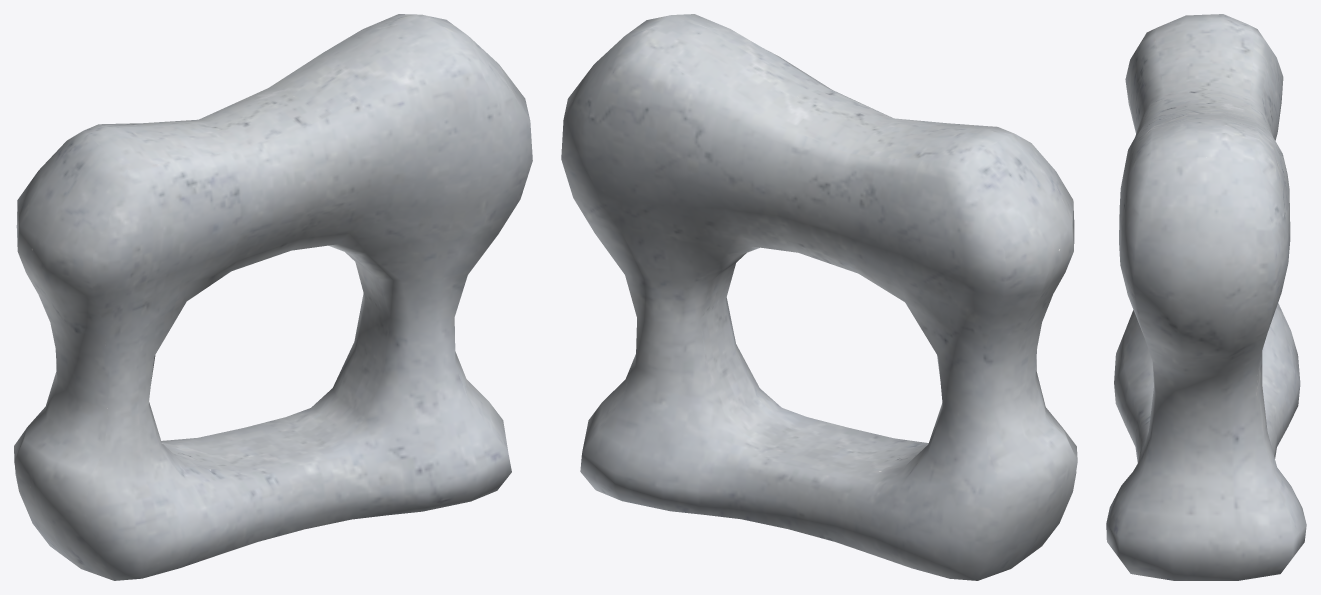
The model's file is objects_un_t04pottery02.gltf.
The picture shows the model from 3 angles, left to right: view 1: azimuth 30°, elevation 25°; view 2: azimuth 150°, elevation 25°; view 3: azimuth 270°, elevation 25°; orthographic projection. The views are drawn at different scales.
Parts seen in each view (by area): view 1: um_objects_un_t04pottery02_model_lod0Shape:objects_un_t04pot; view 2: um_objects_un_t04pottery02_model_lod0Shape:objects_un_t04pot; view 3: um_objects_un_t04pottery02_model_lod0Shape:objects_un_t04pot.
Part boxes in pixels (left/top/right/bottom): um_objects_un_t04pottery02_model_lod0Shape:objects_un_t04pot: left=14, top=14, right=532, bottom=580; um_objects_un_t04pottery02_model_lod0Shape:objects_un_t04pot: left=561, top=14, right=1077, bottom=580; um_objects_un_t04pottery02_model_lod0Shape:objects_un_t04pot: left=1106, top=14, right=1306, bottom=580.
Size of what is drawn, in the model's own units: 2.96 by 2.59 by 1.1.
2 materials, 1 textured.
